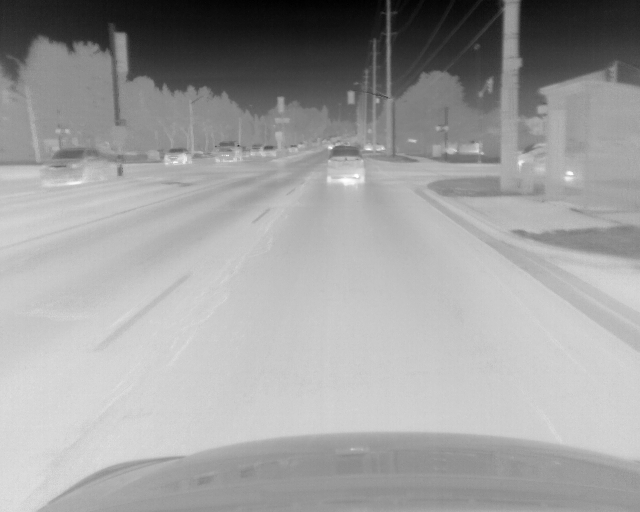car: (38, 150, 110, 183), (327, 147, 366, 184), (215, 140, 241, 163), (164, 149, 192, 166), (263, 144, 274, 158), (250, 145, 261, 156)
